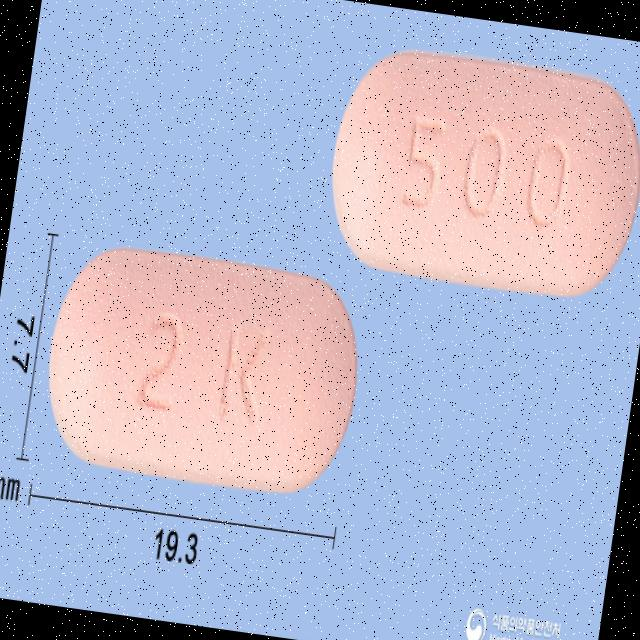Liflocin: (36, 240, 371, 504), (318, 37, 640, 306)
